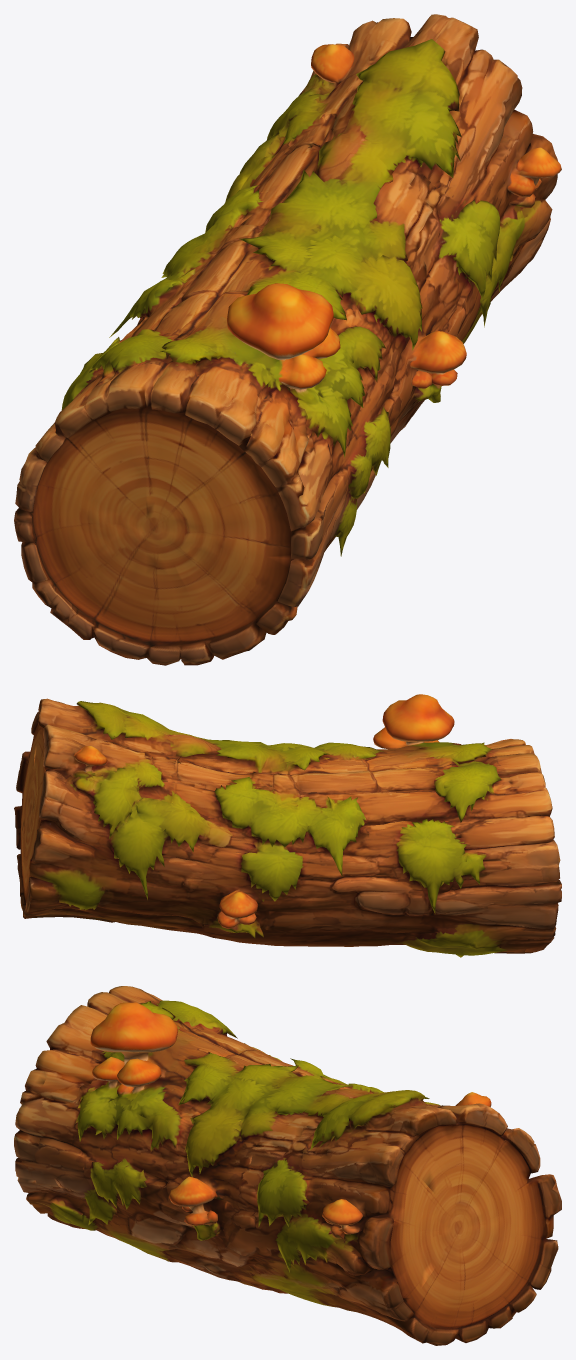
The model's file is mossy_fallen_log.glb.
3 views of the same model, one above another, from view 1: azimuth 30°, elevation 25°; view 2: azimuth 150°, elevation 25°; view 3: azimuth 270°, elevation 25° (orthographic). The views are drawn at different scales.
Visible parts, largest first — view 1: tripo_node_2f243906-806a-49a0-b8c7-88a0f7c30e5d; view 2: tripo_node_2f243906-806a-49a0-b8c7-88a0f7c30e5d; view 3: tripo_node_2f243906-806a-49a0-b8c7-88a0f7c30e5d.
Part boxes in pixels (bbox=[...]): tripo_node_2f243906-806a-49a0-b8c7-88a0f7c30e5d: bbox=[14, 14, 561, 665]; tripo_node_2f243906-806a-49a0-b8c7-88a0f7c30e5d: bbox=[14, 694, 561, 957]; tripo_node_2f243906-806a-49a0-b8c7-88a0f7c30e5d: bbox=[14, 986, 561, 1345].
Size of the model in its own units: 0.9772 by 0.5259 by 0.8739.
1 material, 1 textured.
